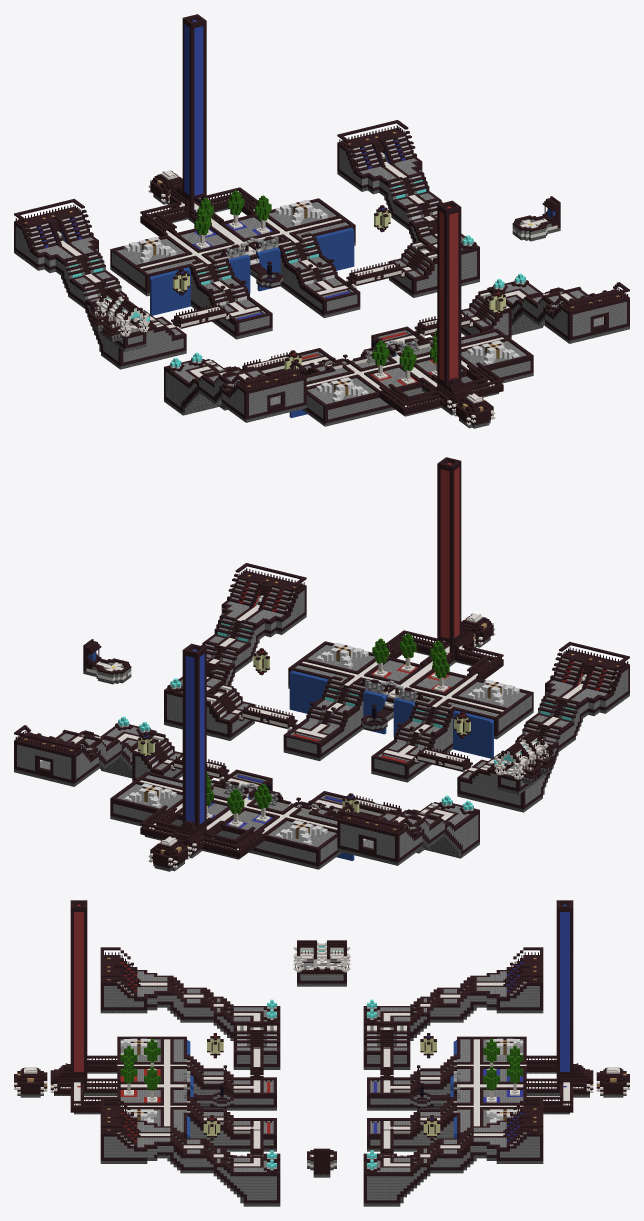
Rendered from minecraft.obj.
The picture shows the model from 3 angles, top to bottom: view 1: azimuth 30°, elevation 25°; view 2: azimuth 150°, elevation 25°; view 3: azimuth 270°, elevation 25°; orthographic projection. The views are drawn at different scales.
Bounding box in the file's own units: 151 × 72.5 × 185.
